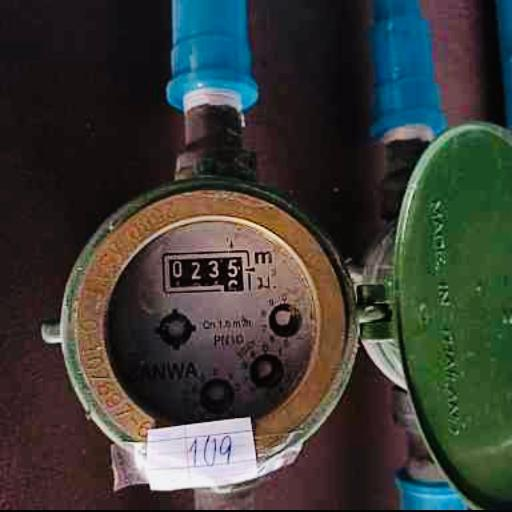0: (169, 259, 187, 288)
2: (185, 258, 205, 287)
3: (204, 258, 224, 287)
5: (223, 257, 244, 292)
border_water_meter_number: (161, 250, 251, 293)
